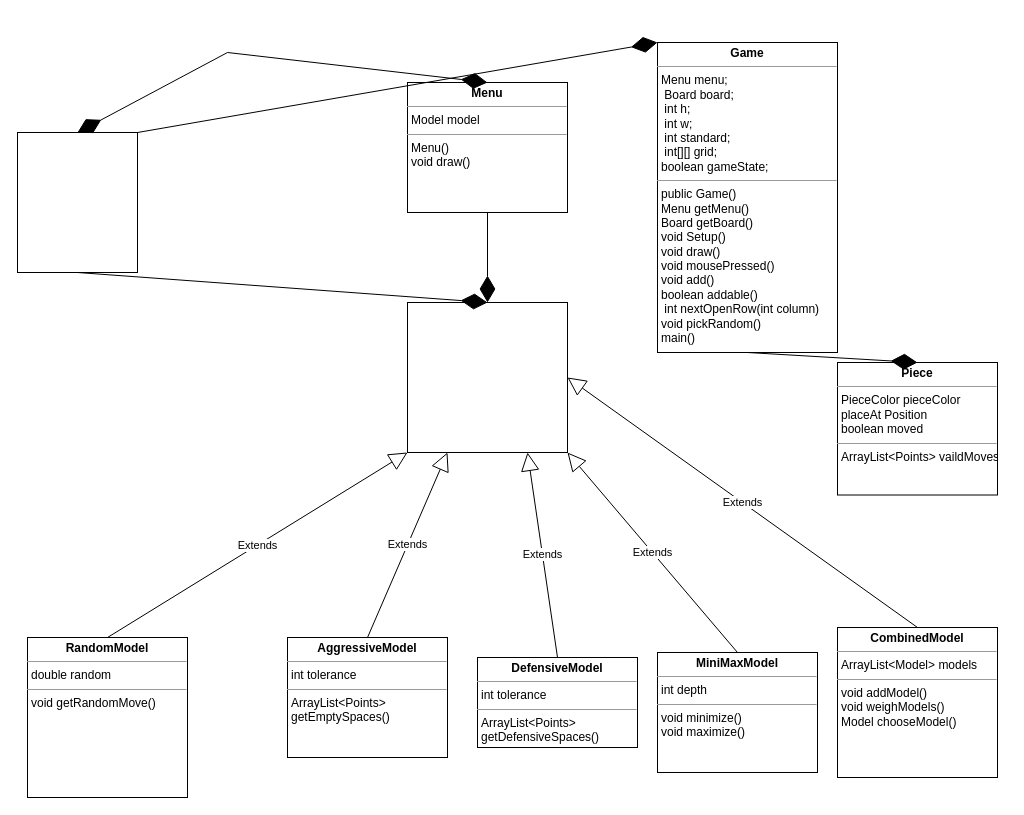
The diagram is 1024 pixels wide and 815 high, and some of its shapes have lost their labels. Here are the shapes that lost their labels. From the top down, the centre of each, then its label:
At (x=77, y=202): "Board".
At (x=487, y=377): "Model Board board Point loc void nextMove() Point getPoint() Board getBoard()".
